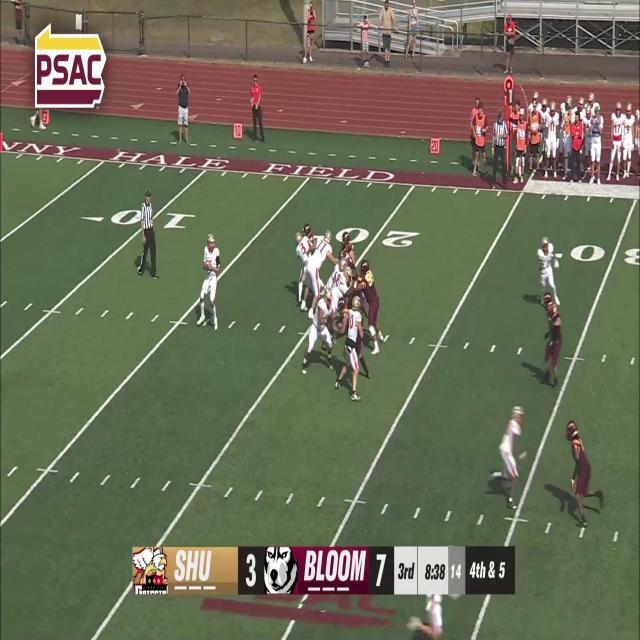football: (205, 262, 212, 276)
